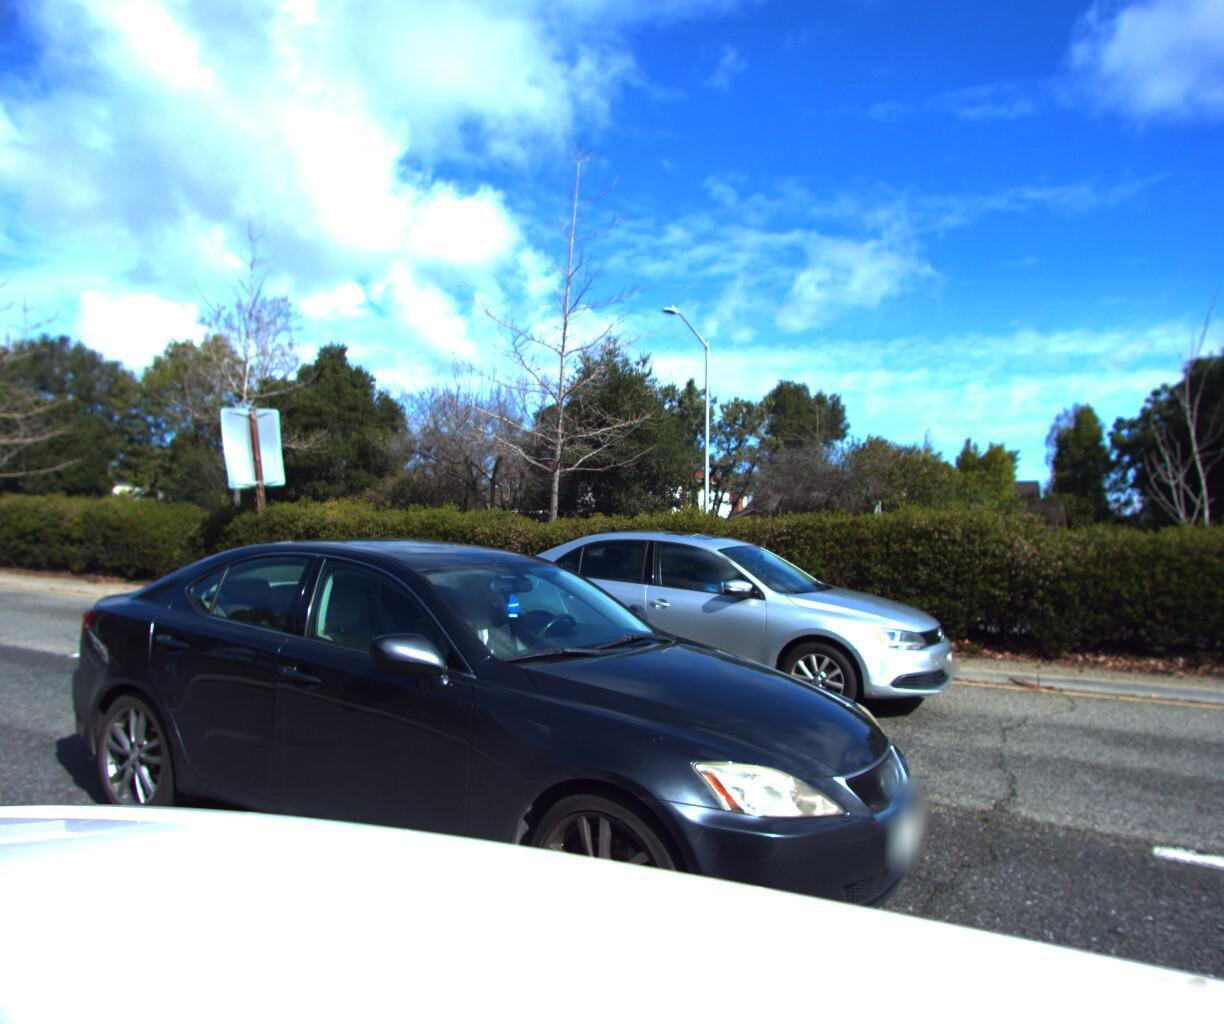car: (12, 522, 940, 1024), (470, 524, 957, 729)
